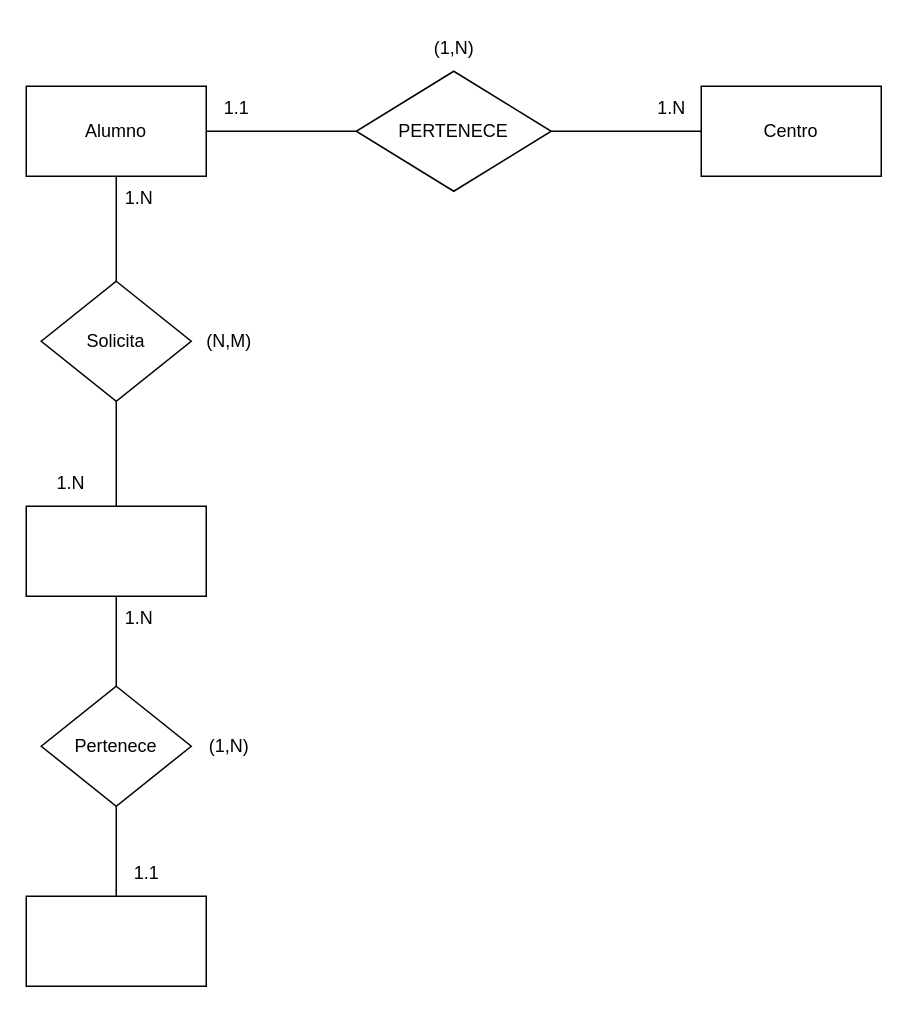
This 908x1013 diagram has some shape labels left out. The shapes that lost their labels are listed below. From the top down, each one's centre as x and y in pixels, then its label:
the point at 115,550: Practicas
the point at 115,940: Empresa
